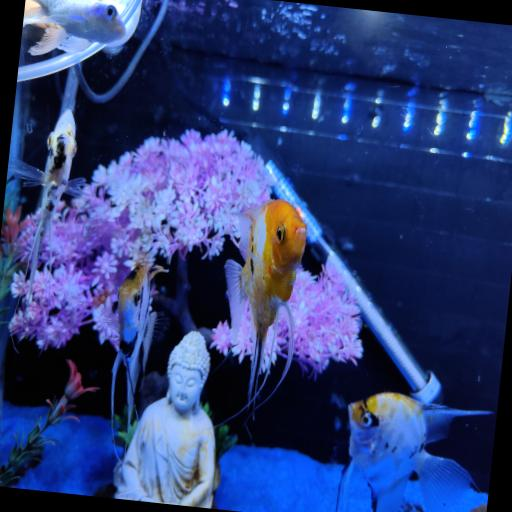Fish: (337, 393, 490, 511), (224, 200, 306, 406), (8, 109, 85, 302), (110, 264, 167, 433), (23, 0, 125, 55)
